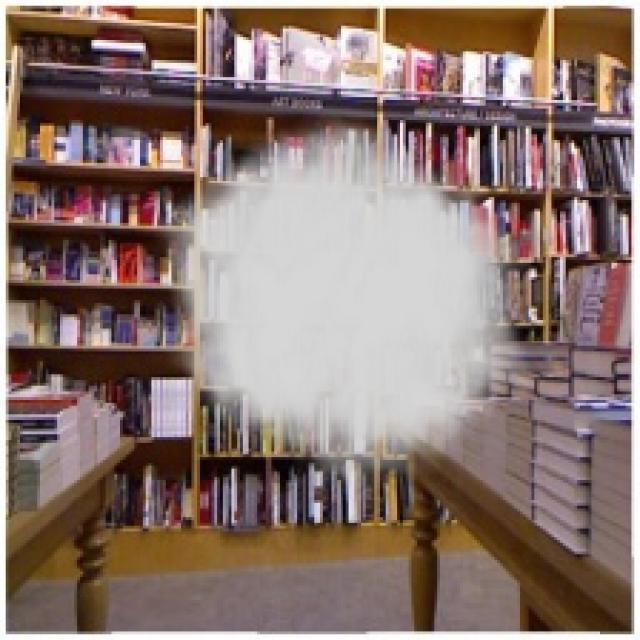Smoke: (148, 103, 532, 500)
